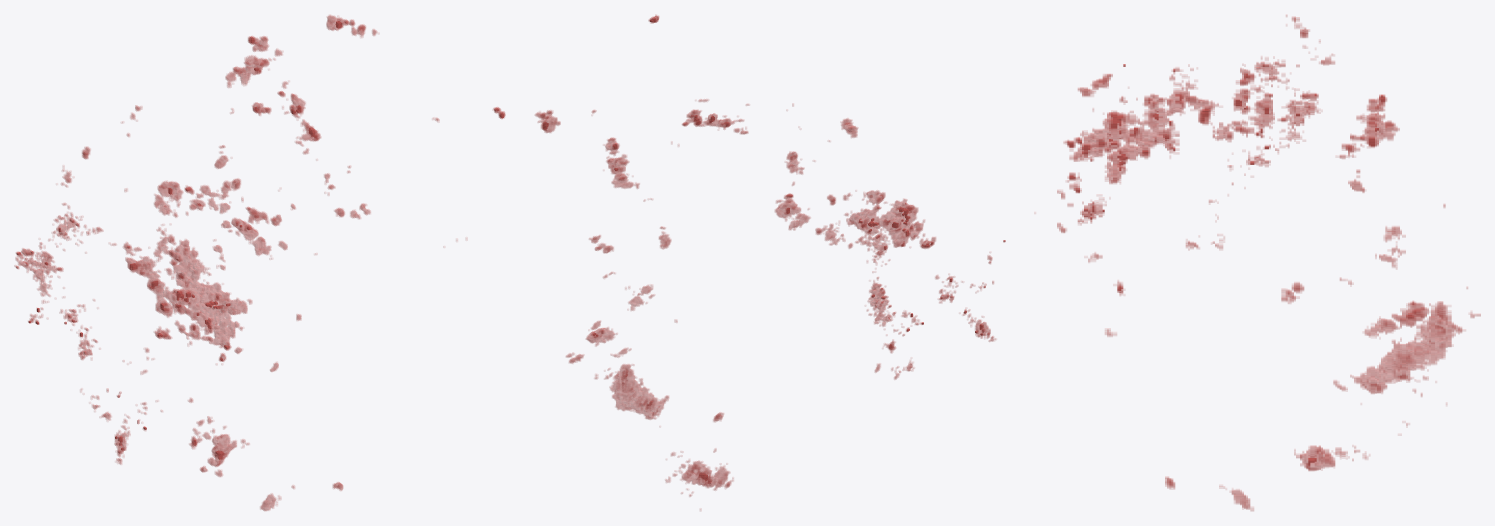
The model's file is leike_voxel.glb.
The picture shows the model from 3 angles, left to right: view 1: azimuth 30°, elevation 25°; view 2: azimuth 150°, elevation 25°; view 3: azimuth 270°, elevation 25°; orthographic projection. The views are drawn at different scales.
Bounding box in the file's own units: 1.91 × 1.87 × 1.68.
